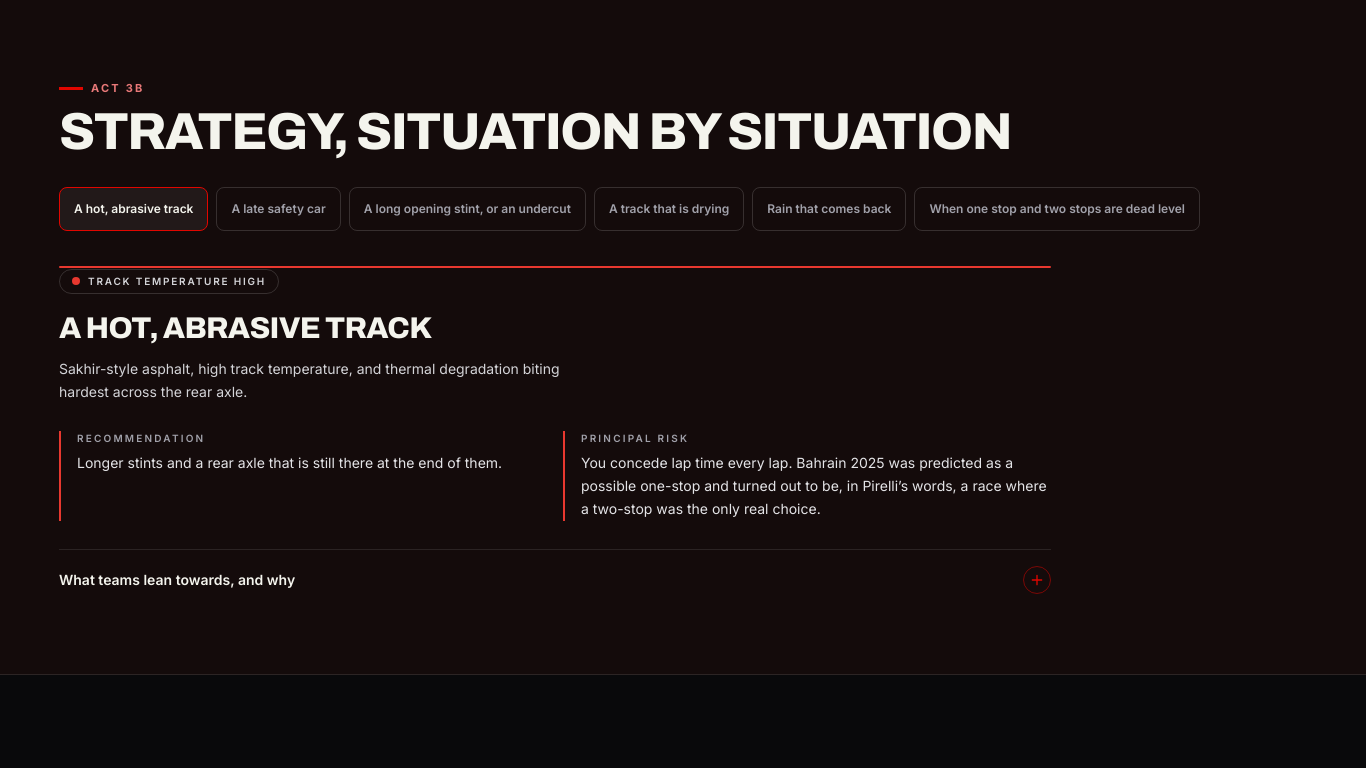
Test case: ActStrategy — content follows the selected scenario › moves aria-pressed onto exactly the chosen scenario
What coordinates should you click on to do the following:
click the button "A track that is drying"
I would click on:
 (669, 209)
Its box is [594,187,744,231].
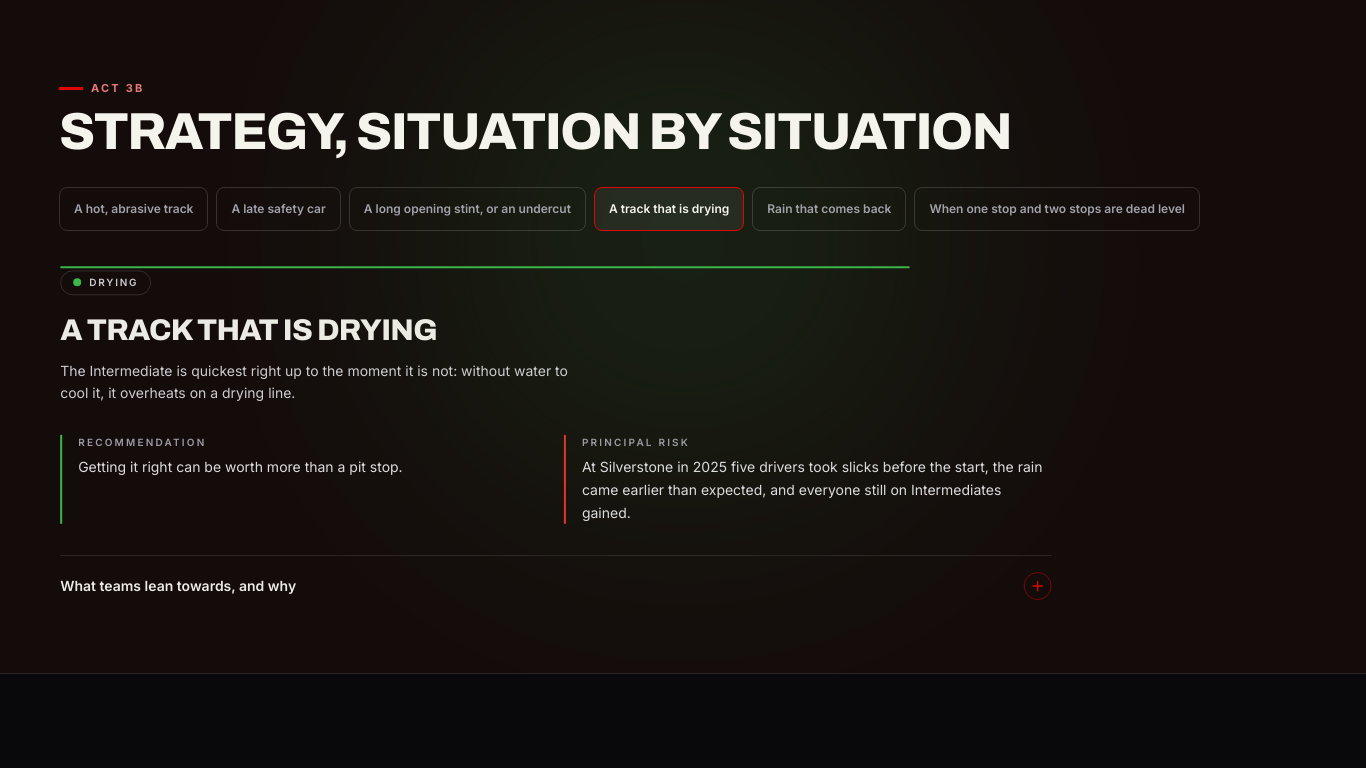
Check: the heading "A track that is drying" is shown, box [60,314,437,346]
What coordinates should you click on to do the following:
click the button "A hot, abrasive track"
I would click on:
 (134, 209)
Its box is [59,187,208,231].
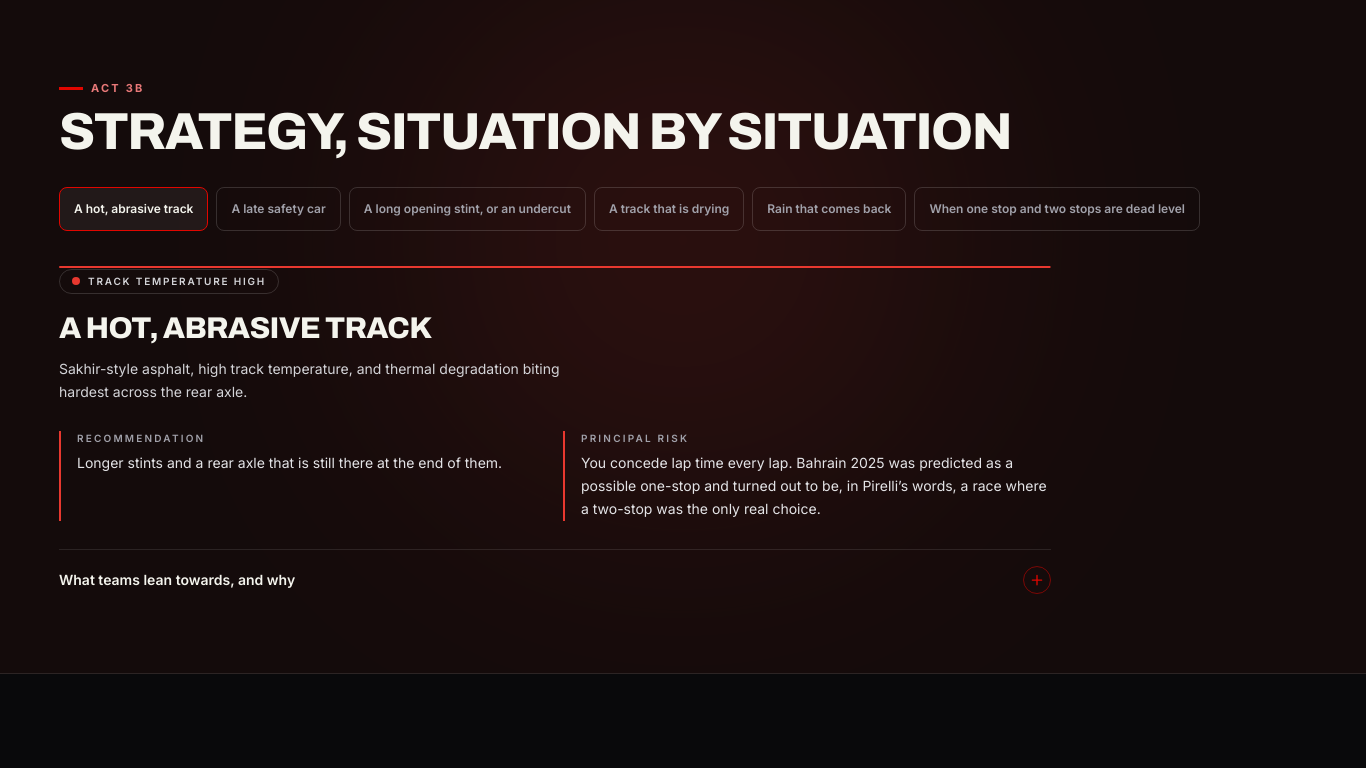
Check: the heading "A hot, abrasive track" is shown, box [59,312,432,344]
What coordinates should you click on to do the following:
click the button "When one stop and two stops are dead level"
I would click on:
 (1057, 209)
Its box is [914,187,1200,231].
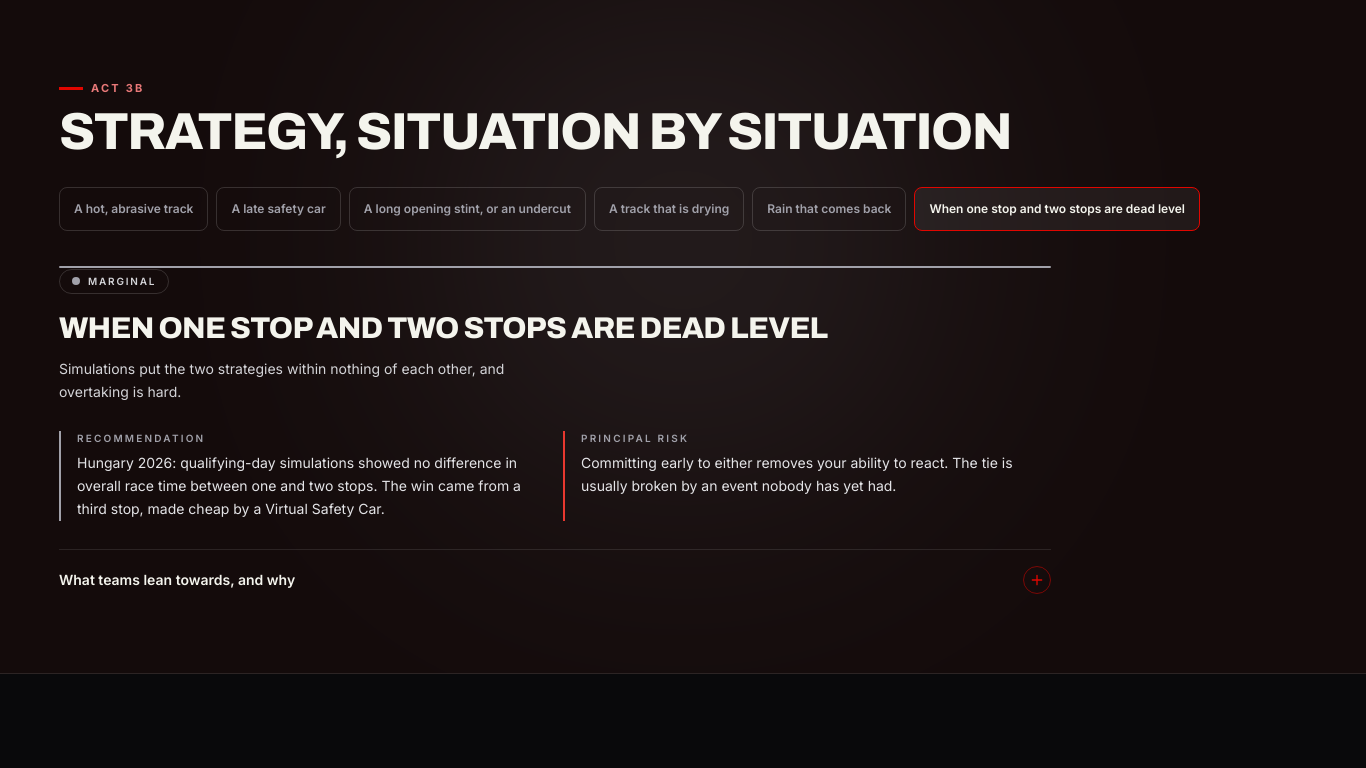
Check: the heading "When one stop and two stops are dead level" is shown, box [59,312,828,344]
